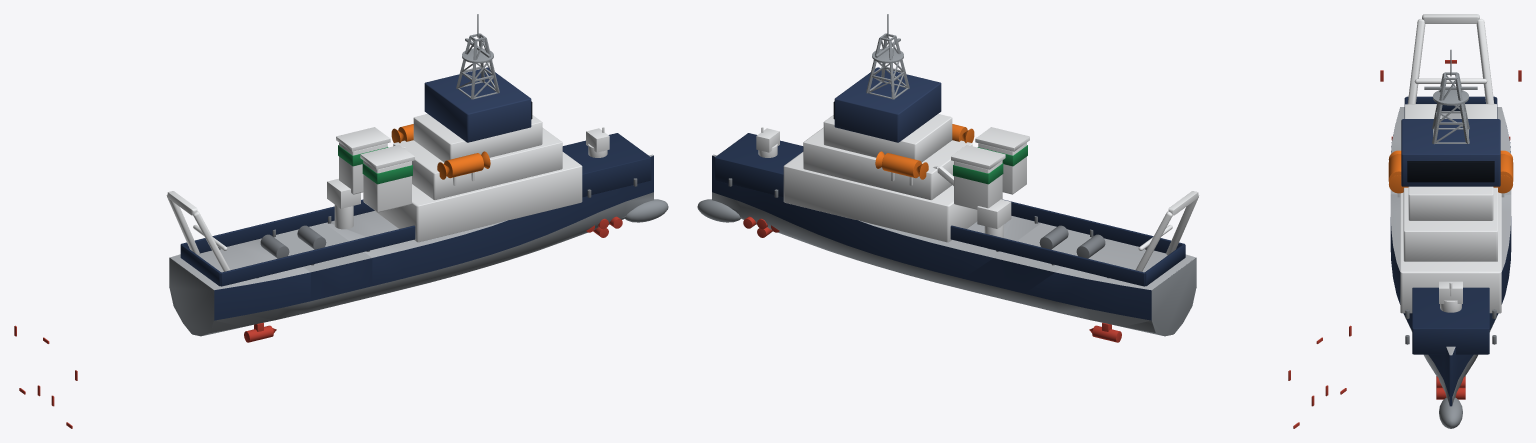
Rendered from advantage-osv-hero-refined.glb.
3 views of the same model, side by side, from view 1: azimuth 30°, elevation 25°; view 2: azimuth 150°, elevation 25°; view 3: azimuth 270°, elevation 25° (orthographic). The views are drawn at different scales.
Visible parts, largest first — view 1: GEO-adv-hull, GEO-adv-house-t1, GEO-adv-bulwarks, GEO-adv-bridge, GEO-adv-house-t2, GEO-adv-forecastle, GEO-adv-house-t3, GEO-adv-mast, GEO-adv-funnel-s, GEO-adv-aframe, GEO-adv-crane, GEO-adv-lifeboat-s (+6 smaller); view 2: GEO-adv-hull, GEO-adv-house-t1, GEO-adv-bulwarks, GEO-adv-bridge, GEO-adv-house-t2, GEO-adv-forecastle, GEO-adv-house-t3, GEO-adv-mast, GEO-adv-funnel-p, GEO-adv-aframe, GEO-adv-crane, GEO-adv-lifeboat-p (+6 smaller); view 3: GEO-adv-forecastle, GEO-adv-bridge, GEO-adv-hull, GEO-adv-house-t2, GEO-adv-house-t1, GEO-adv-house-t3, GEO-adv-aframe, GEO-adv-bridge-windows, GEO-adv-mast, GEO-adv-sensor, GEO-adv-bulbous-bow, GEO-adv-lifeboat-s (+6 smaller).
Boxes of the visible parts, box(x1,y1,x2,y2) form: GEO-adv-hull: box(169, 154, 653, 336); GEO-adv-house-t1: box(375, 152, 582, 242); GEO-adv-bulwarks: box(180, 199, 415, 286); GEO-adv-bridge: box(424, 67, 531, 142); GEO-adv-house-t2: box(393, 127, 562, 199); GEO-adv-forecastle: box(562, 133, 651, 197); GEO-adv-house-t3: box(413, 114, 542, 162); GEO-adv-mast: box(456, 14, 499, 99); GEO-adv-funnel-s: box(363, 160, 411, 212); GEO-adv-aframe: box(166, 191, 230, 271); GEO-adv-crane: box(327, 145, 405, 229); GEO-adv-lifeboat-s: box(437, 151, 490, 179); GEO-adv-hull: box(712, 154, 1196, 336); GEO-adv-house-t1: box(783, 152, 977, 242); GEO-adv-bulwarks: box(950, 199, 1185, 286); GEO-adv-bridge: box(834, 67, 941, 142); GEO-adv-house-t2: box(803, 127, 972, 199); GEO-adv-forecastle: box(714, 133, 803, 197); GEO-adv-house-t3: box(823, 114, 952, 162); GEO-adv-mast: box(866, 14, 909, 99); GEO-adv-funnel-p: box(954, 160, 1002, 209); GEO-adv-aframe: box(1135, 191, 1199, 271); GEO-adv-crane: box(933, 166, 1011, 249); GEO-adv-lifeboat-p: box(875, 151, 928, 179); GEO-adv-forecastle: box(1412, 287, 1489, 354); GEO-adv-bridge: box(1401, 119, 1500, 186); GEO-adv-hull: box(1390, 107, 1511, 406); GEO-adv-house-t2: box(1403, 187, 1497, 261); GEO-adv-house-t1: box(1400, 192, 1501, 313); GEO-adv-house-t3: box(1408, 186, 1493, 220); GEO-adv-aframe: box(1407, 14, 1494, 104); GEO-adv-bridge-windows: box(1407, 161, 1494, 182); GEO-adv-mast: box(1424, 49, 1477, 144); GEO-adv-sensor: box(1439, 281, 1462, 312); GEO-adv-bulbous-bow: box(1439, 397, 1462, 428); GEO-adv-lifeboat-s: box(1388, 150, 1408, 193).
Bounding box in the file's own units: 67.44 × 30.04 × 11.68.
